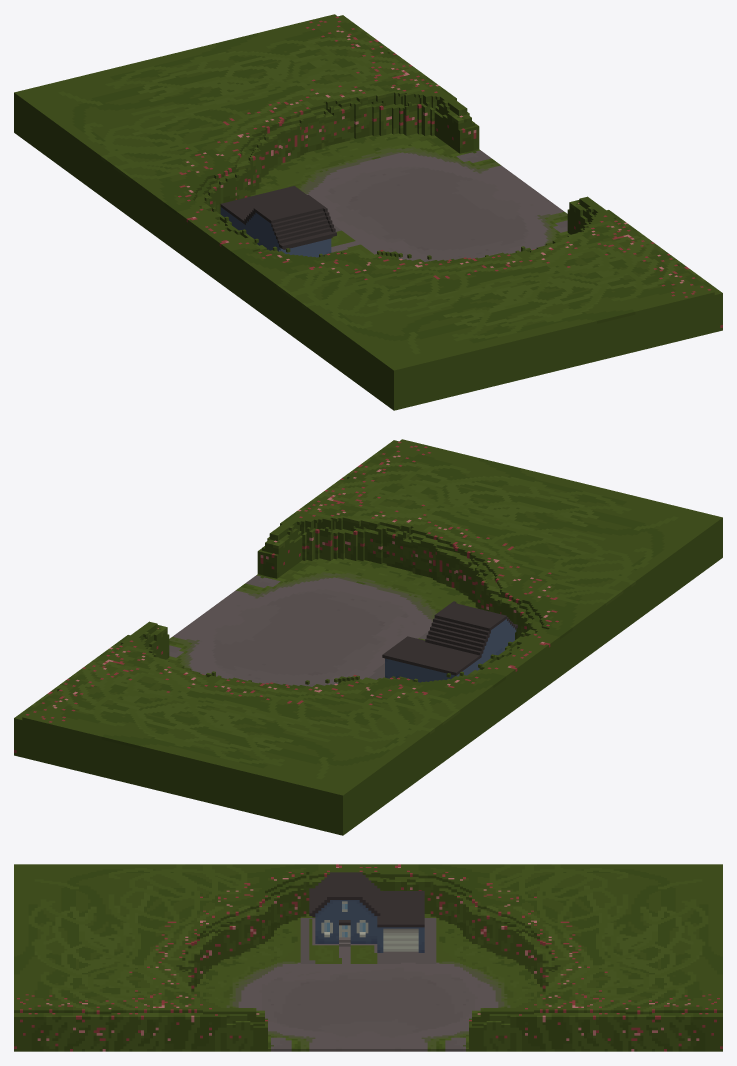
File: SpawnPoint.obj
3 renders of one model, top to bottom at view 1: azimuth 30°, elevation 25°; view 2: azimuth 150°, elevation 25°; view 3: azimuth 270°, elevation 25°, orthographic. The views are drawn at different scales.
Bounding box in the file's own units: 12 × 1.9 × 24.
1 material, 1 textured.
